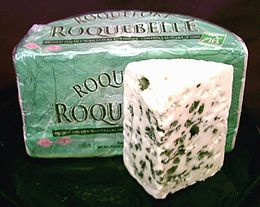cheese: (117, 60, 235, 193)
